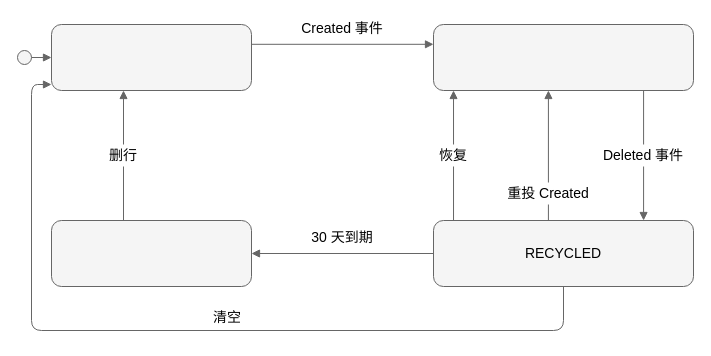
The diagram is 711 pixels wide and 356 high, and some of its shapes have lost their labels. The shapes that lost their labels are listed below. From the top down, each one's centre as x and y in pixels, then its label:
the point at 151,57: 无行
the point at 563,57: NORMAL
the point at 151,253: DELETED
